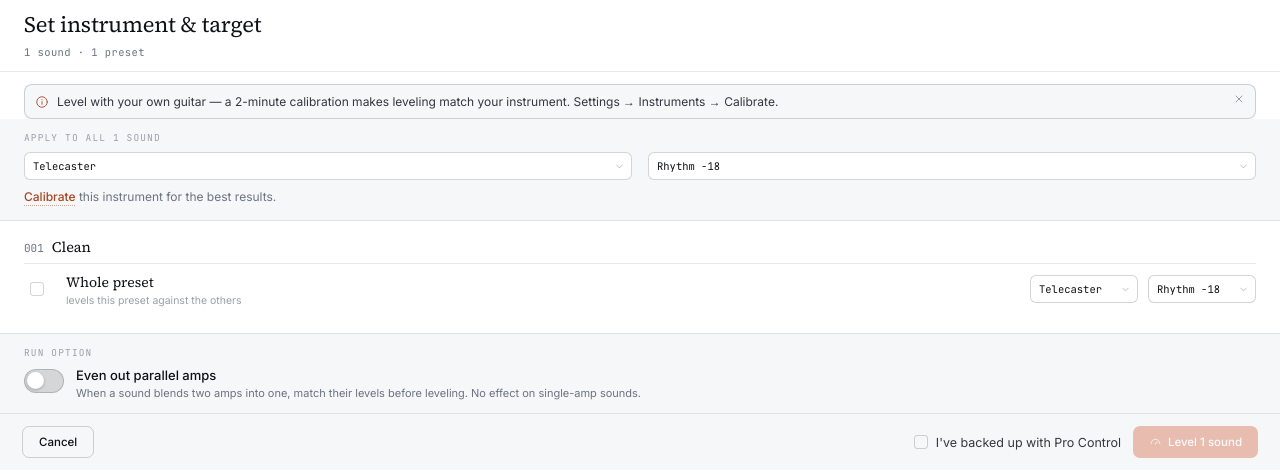
Scenario: SetupBody calibration onboarding banner › dismiss hides the banner
The width and height of the screenshot is (1280, 475).
Expected: the text "Level with your own guitar" is shown, x1=57 y1=94 x2=778 y2=109
Click the button named "Dismiss" at (1239, 99), box x1=1233 y1=93 x2=1245 y2=105
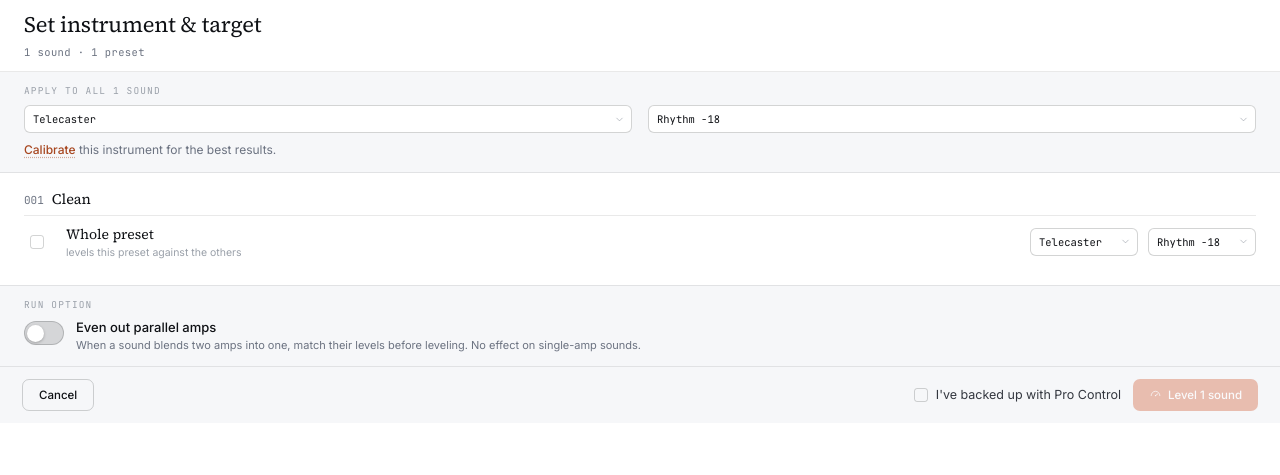
Result: the text "Level with your own guitar" is gone
